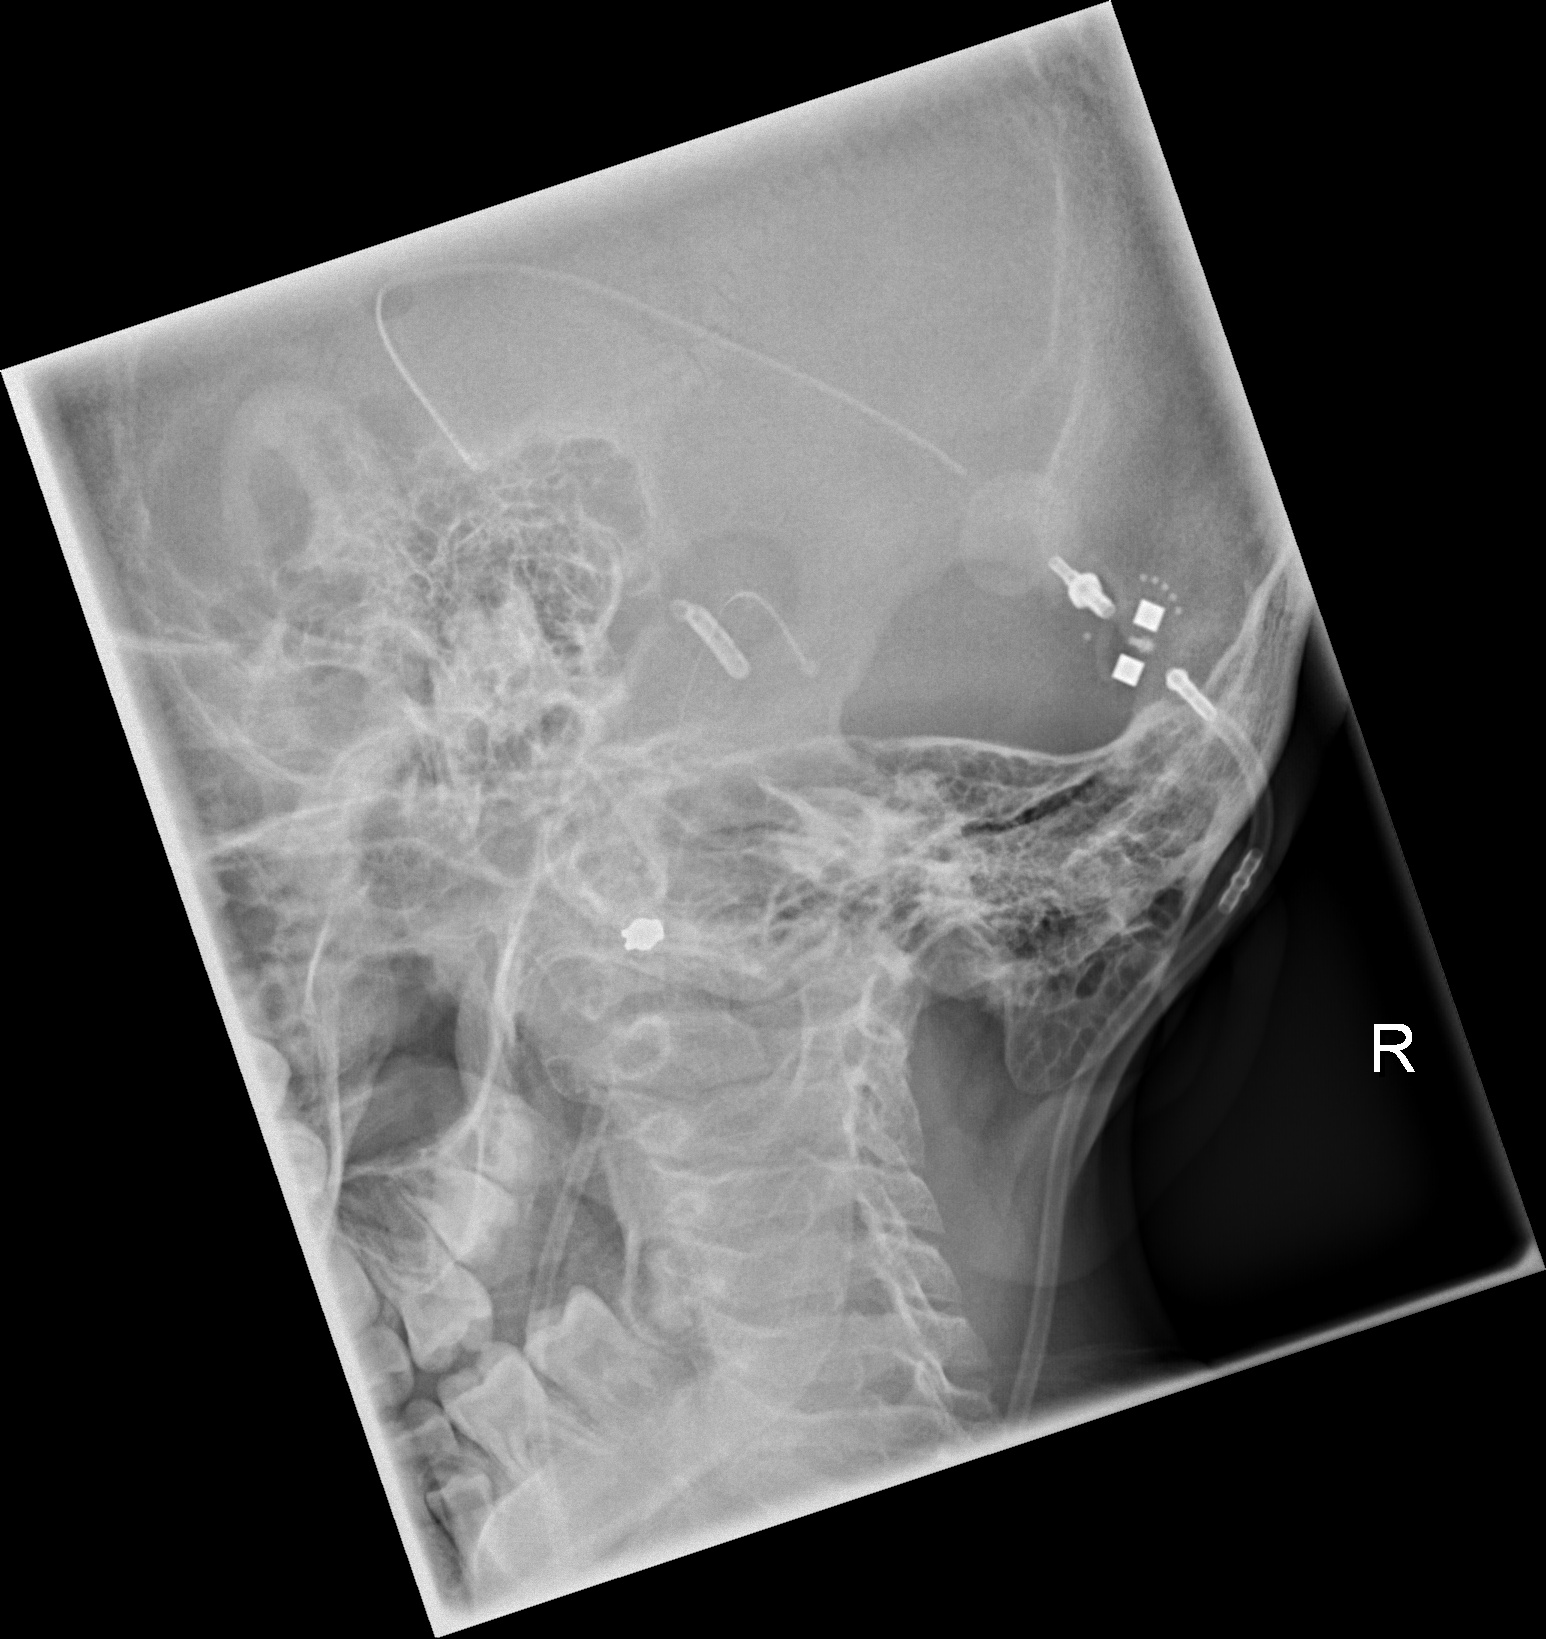Sophysa Polaris: (1065, 555, 1205, 727)
